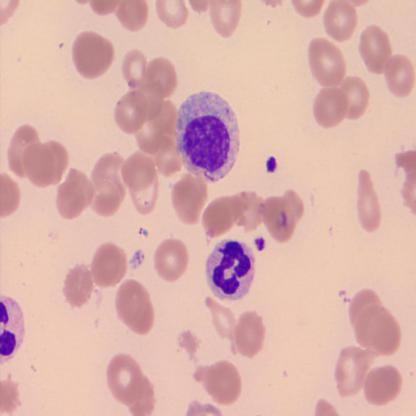Myelocyte: (178, 90, 244, 180), (208, 238, 259, 298)
